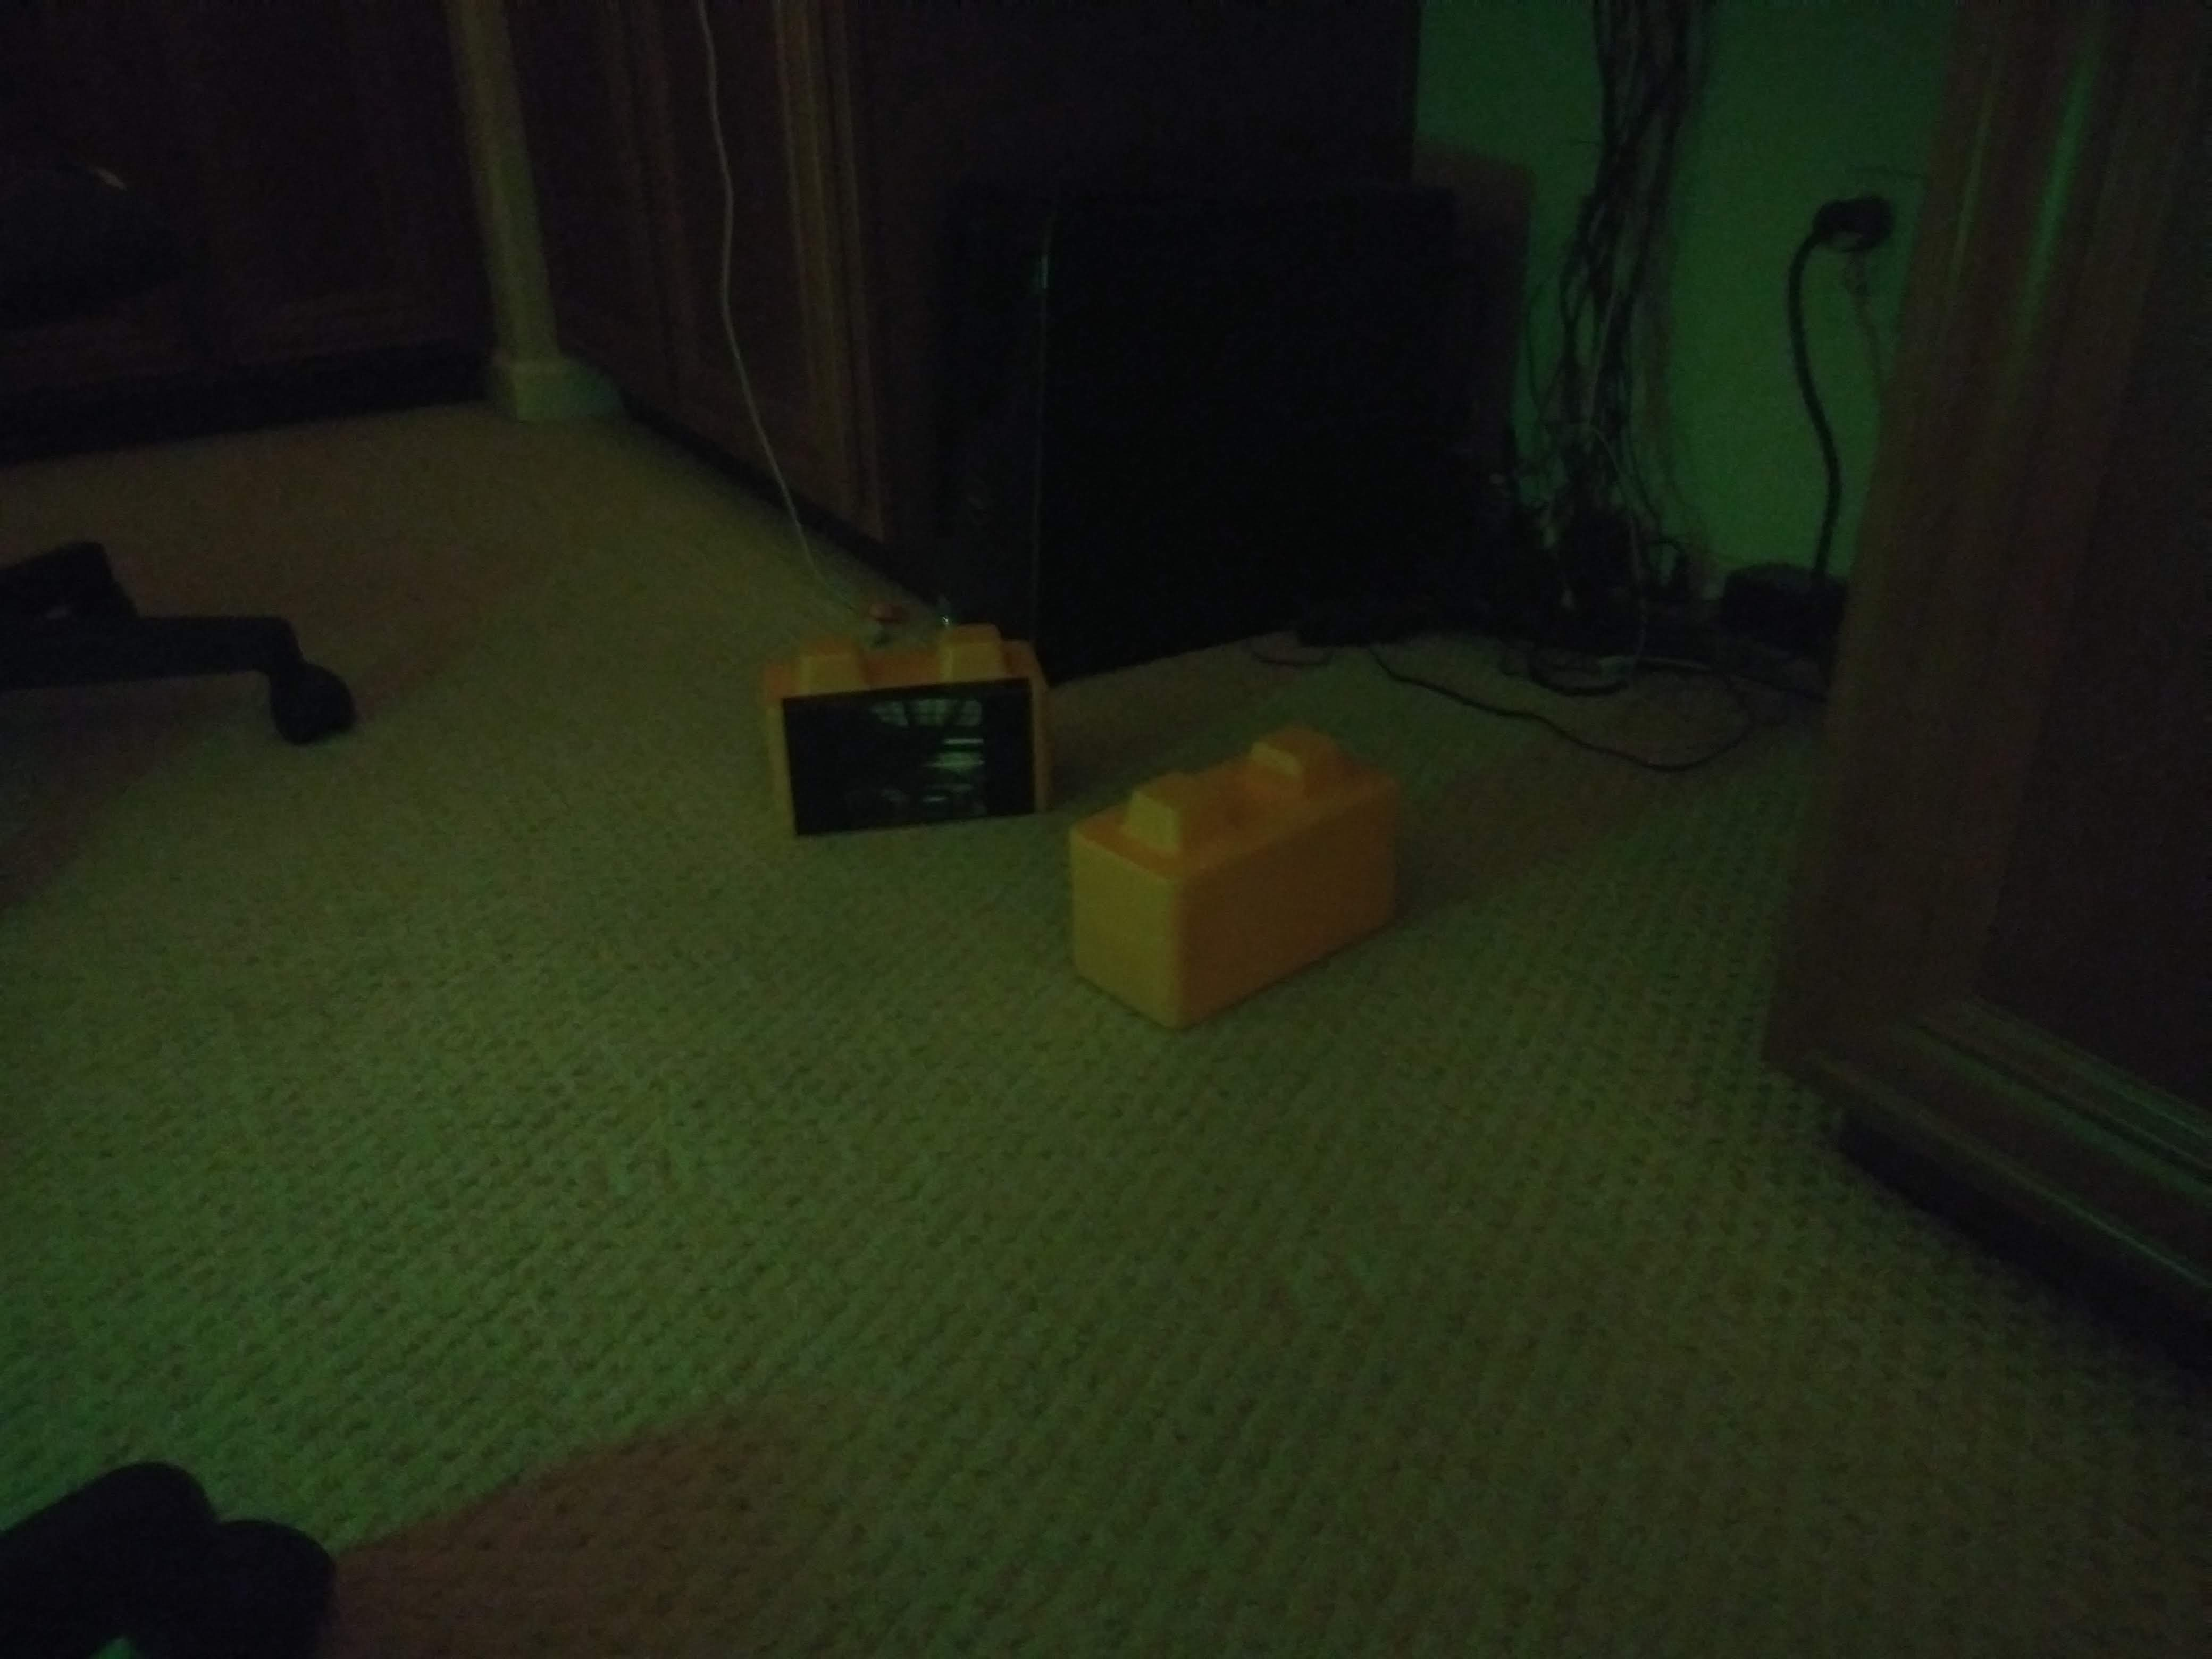skystone: (761, 647, 1052, 836)
stone: (1082, 765, 1400, 997)
